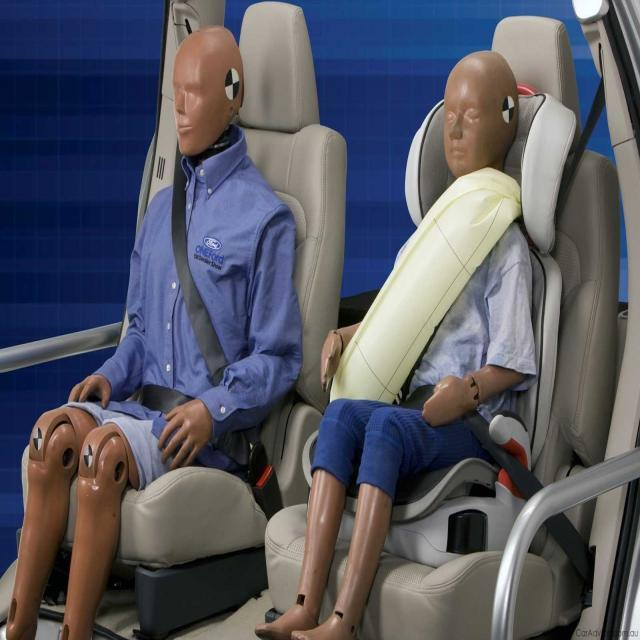seatbelt: (136, 150, 276, 500)
